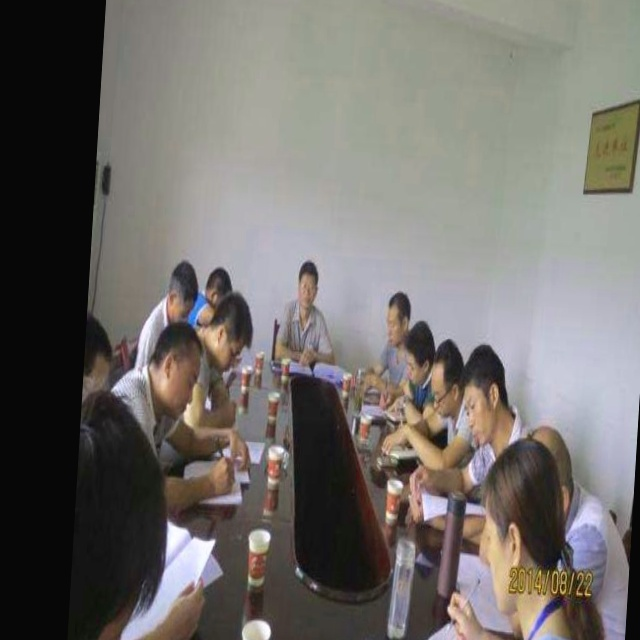Sin_Casco_Mascarrilla: (295, 258, 320, 315)
